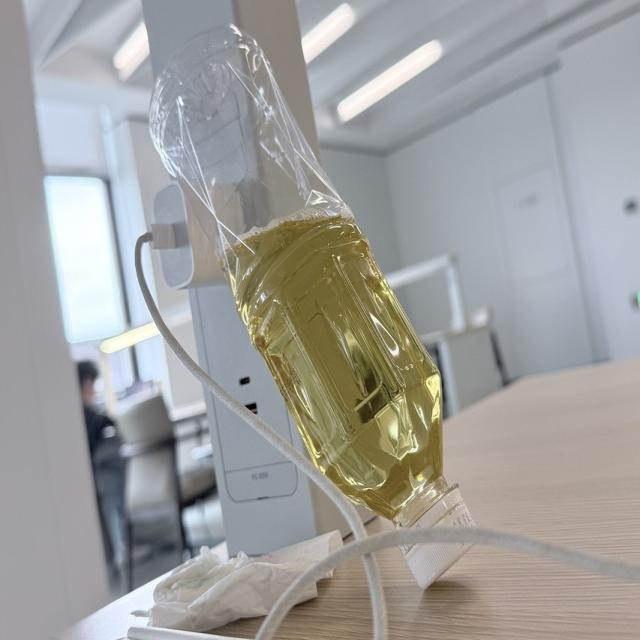medium: (150, 27, 470, 527)
